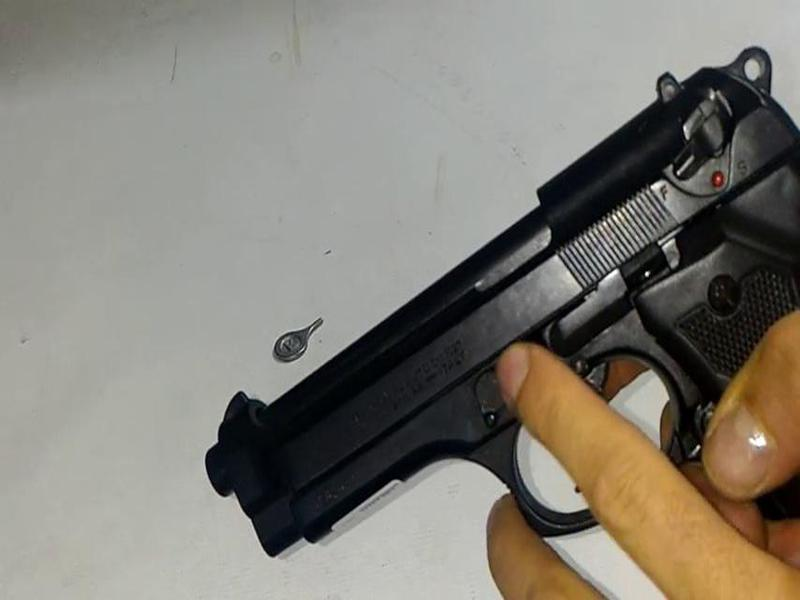Pistola: (201, 30, 800, 572)
